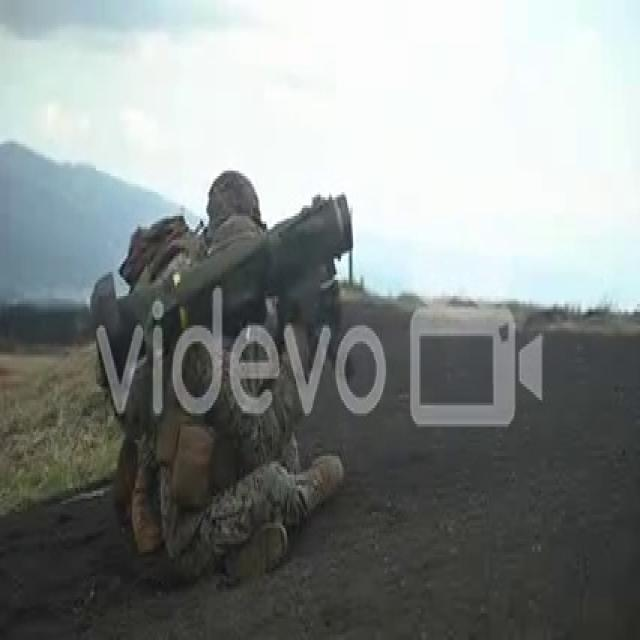bazooka: (91, 191, 361, 408)
